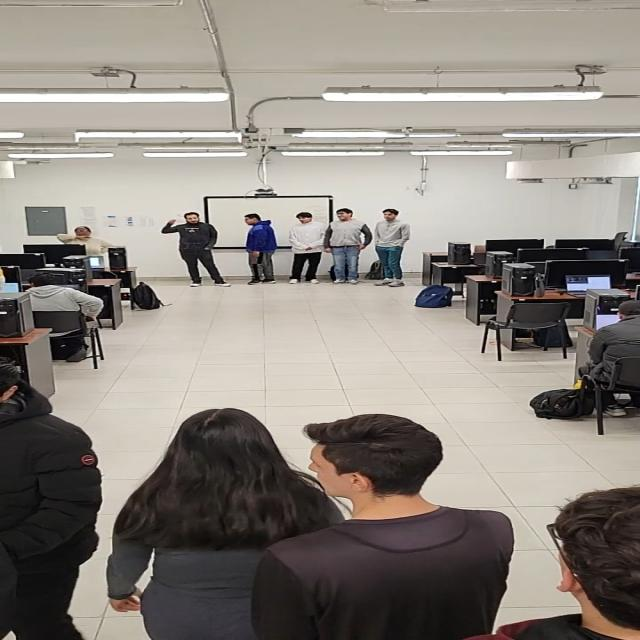Persona: (302, 422, 509, 629), (136, 406, 310, 633), (166, 212, 227, 284), (241, 213, 279, 281), (332, 207, 365, 279), (376, 206, 406, 279), (291, 210, 321, 278), (54, 225, 117, 255)
